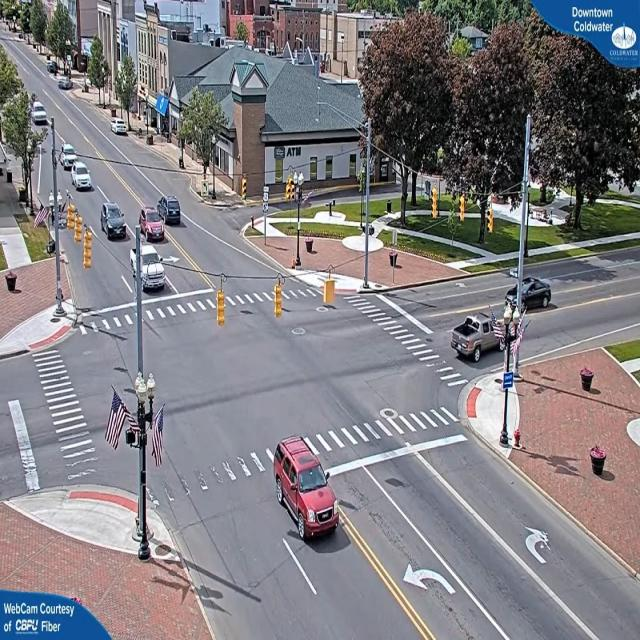car: (274, 437, 341, 543), (451, 310, 507, 363), (506, 278, 554, 313), (102, 204, 130, 240), (138, 210, 166, 243), (158, 194, 182, 226), (74, 164, 94, 190), (112, 120, 128, 136)
